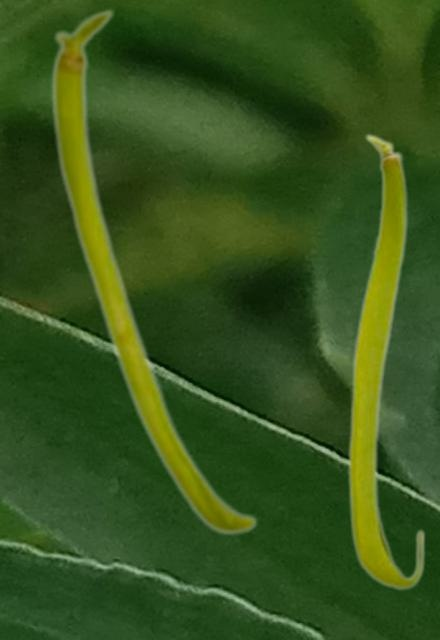french_bean: (50, 7, 258, 536), (346, 132, 425, 590)
